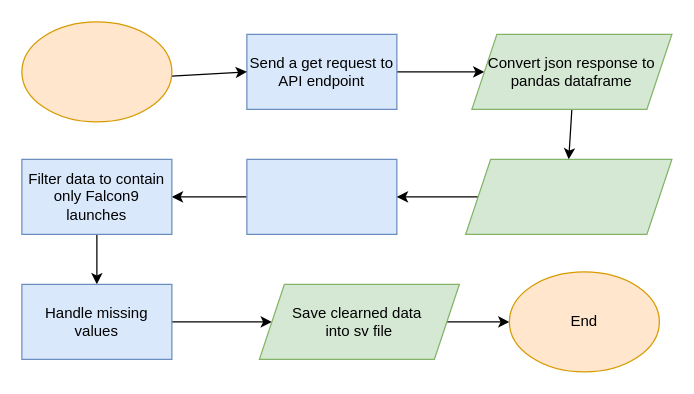
Some shapes in this 694 by 394 pixel diagram are drawn without their labels. The shapes that lost their labels are listed below. From the top down, each one's centre as x and y in pixels, then its label:
point 96,71: Start
point 321,196: Construct new dataset
point 568,196: Extract detailed data for each rocket ID via other API endpoints
